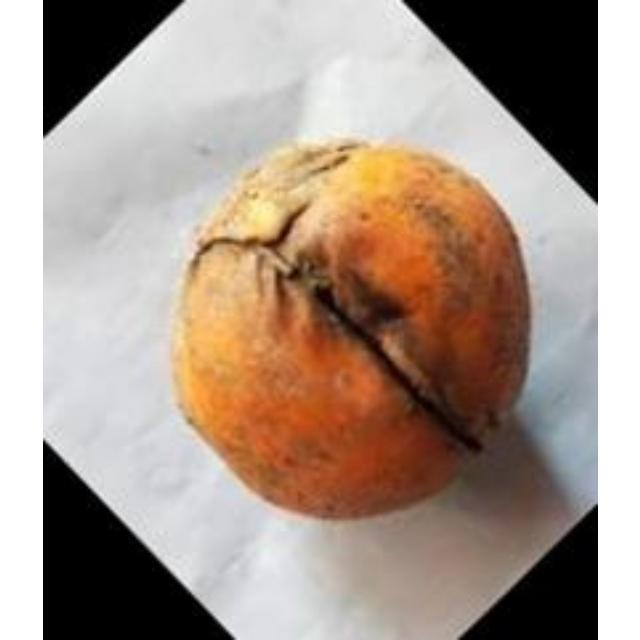damaged: (172, 141, 528, 515)
